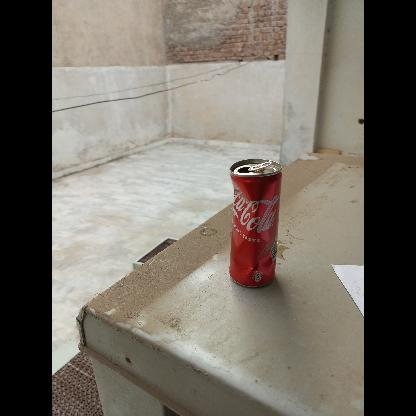Dent_Can: (231, 177, 279, 278), (233, 188, 241, 206)
Lid_Open: (236, 158, 270, 176)
Tin_Can: (226, 157, 286, 289)
